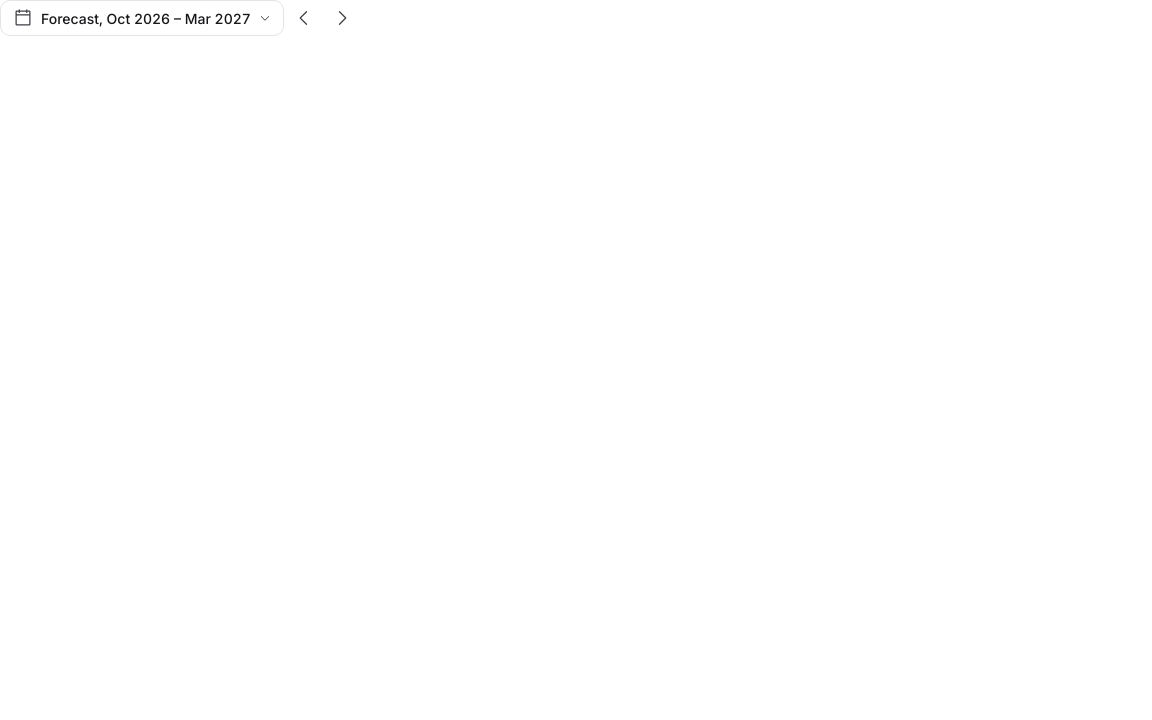
it: PeriodPicker › leads back to all the years in one press
What coordinates should you click on to do the following:
click the button "Forecast, Oct 2026 – Mar 2027"
I would click on:
 (142, 18)
Its box is [0,0,284,36].
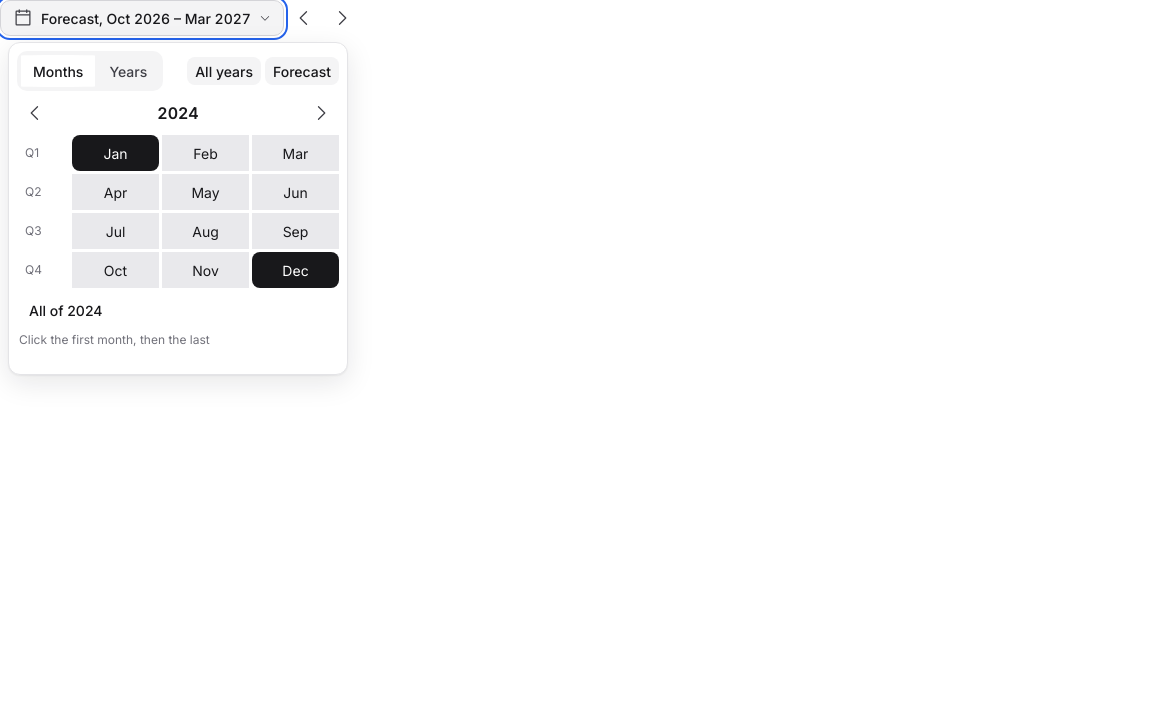
What coordinates should you click on to do the following:
click the button with aria-label "All years, 2003–2026"
I would click on:
 (224, 71)
Its box is [187,57,261,85].
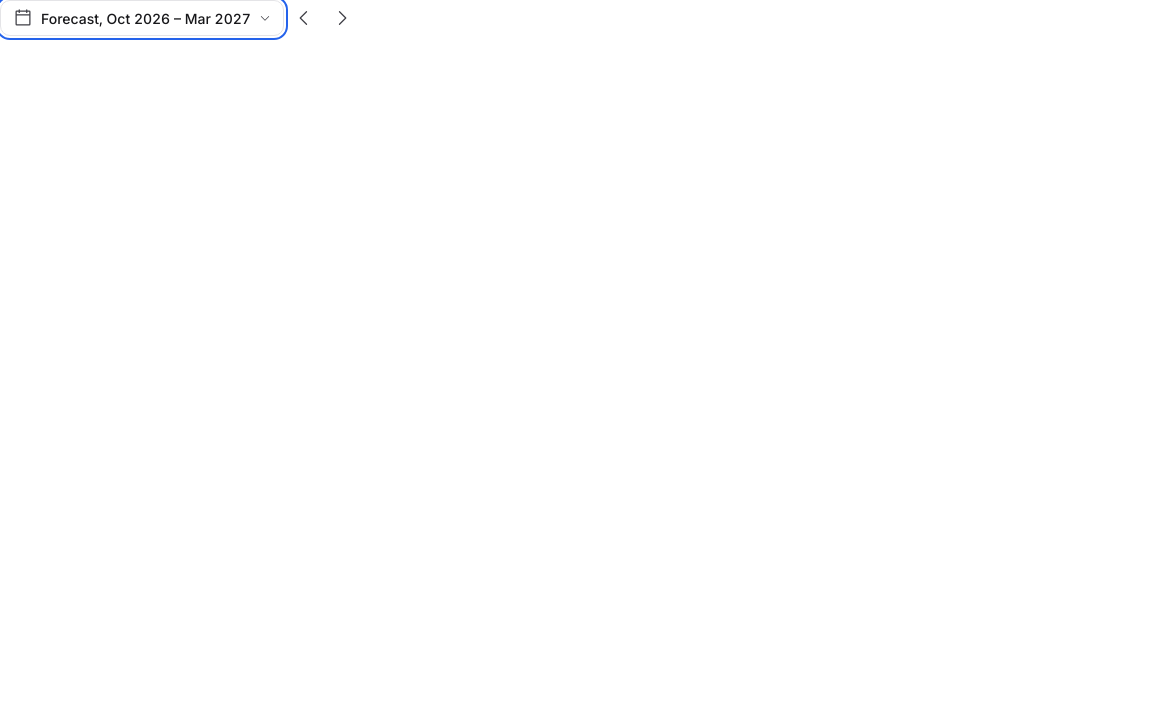
Expected: the dialog is gone
